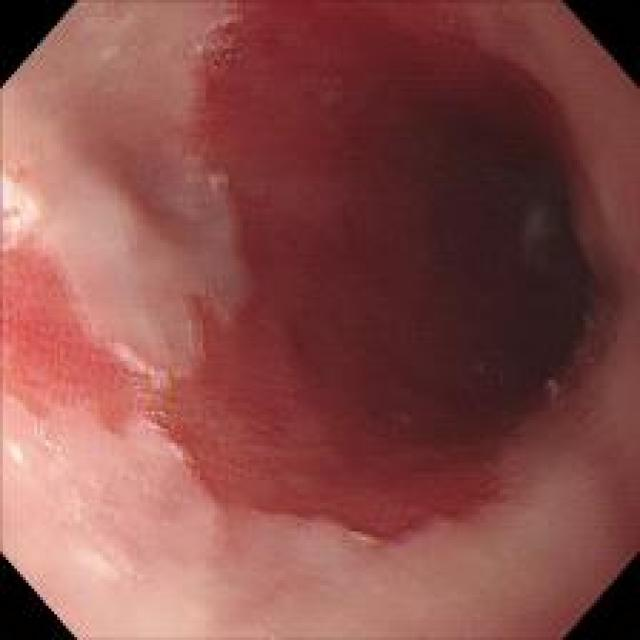blur: (9, 91, 245, 570)
bubbles: (134, 379, 166, 425), (32, 415, 69, 450), (209, 46, 239, 74), (176, 46, 190, 61)
color misalignment: (131, 375, 170, 438), (209, 39, 246, 82), (576, 300, 595, 368), (542, 375, 566, 406)
contrast: (410, 64, 624, 446)
